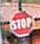stop: (7, 9, 35, 36)
